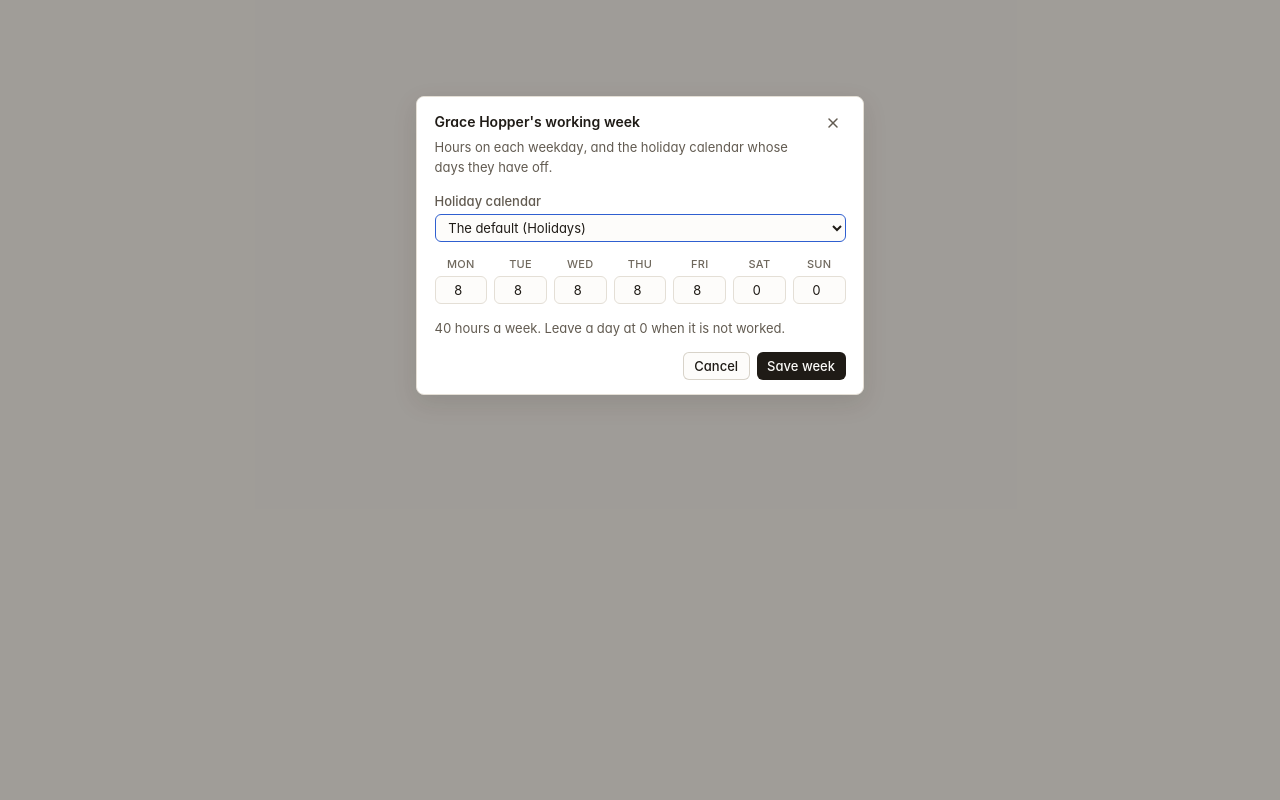
Scenario: a working week › refuses a day longer than a day, and says which
Replace the text in the number field named "Hours on Monday" with "25": (461, 290) [434,276,487,304]
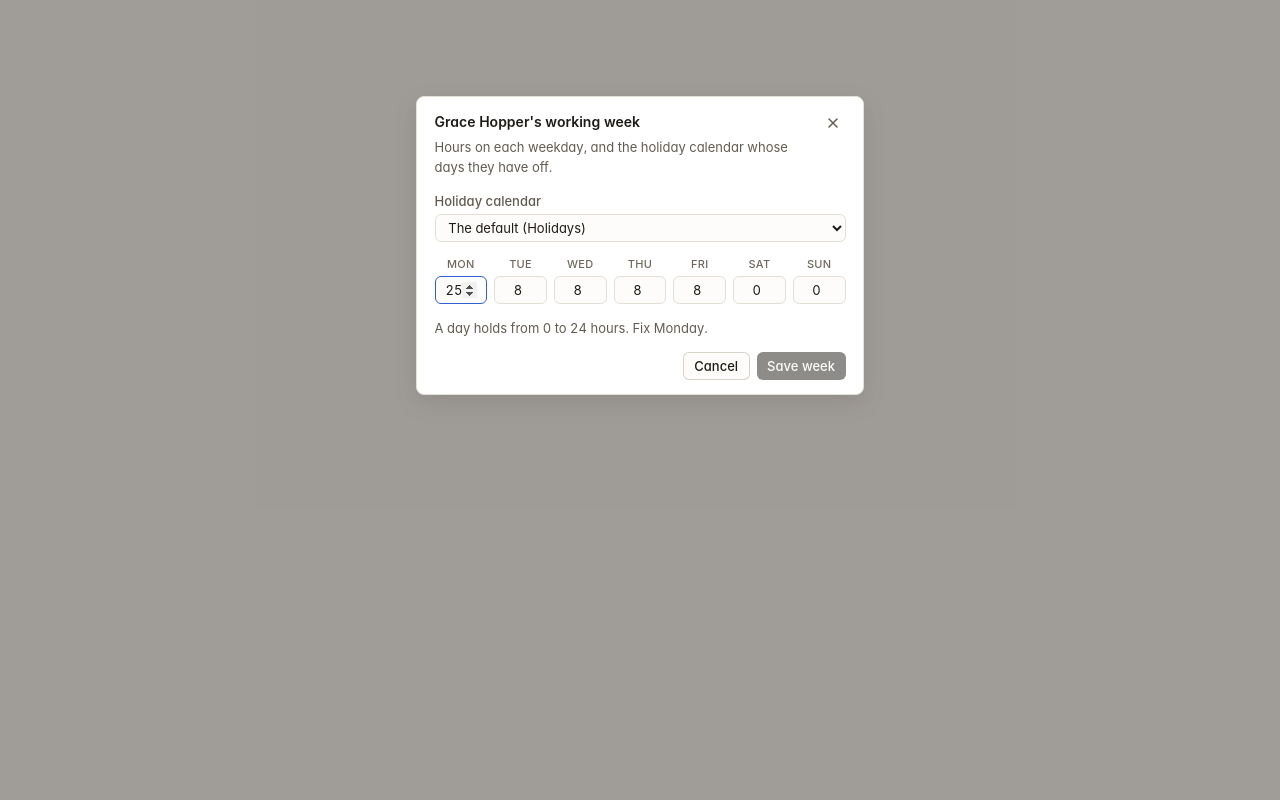
Now the text "A day holds from 0 to 24 hours. Fix Monday." is shown, box [434,320,708,336]
Now the button "Save week" is disabled, box [757,352,846,380]
